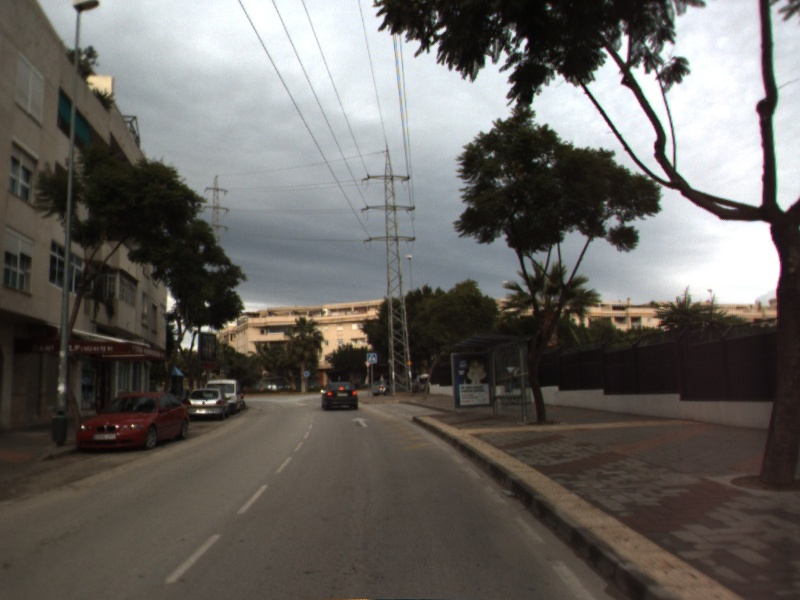STRAIGHT: (349, 415, 373, 429)
